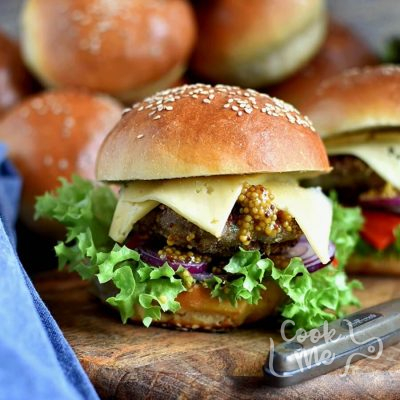hamburger_buns: (87, 85, 324, 182), (84, 267, 285, 330)
